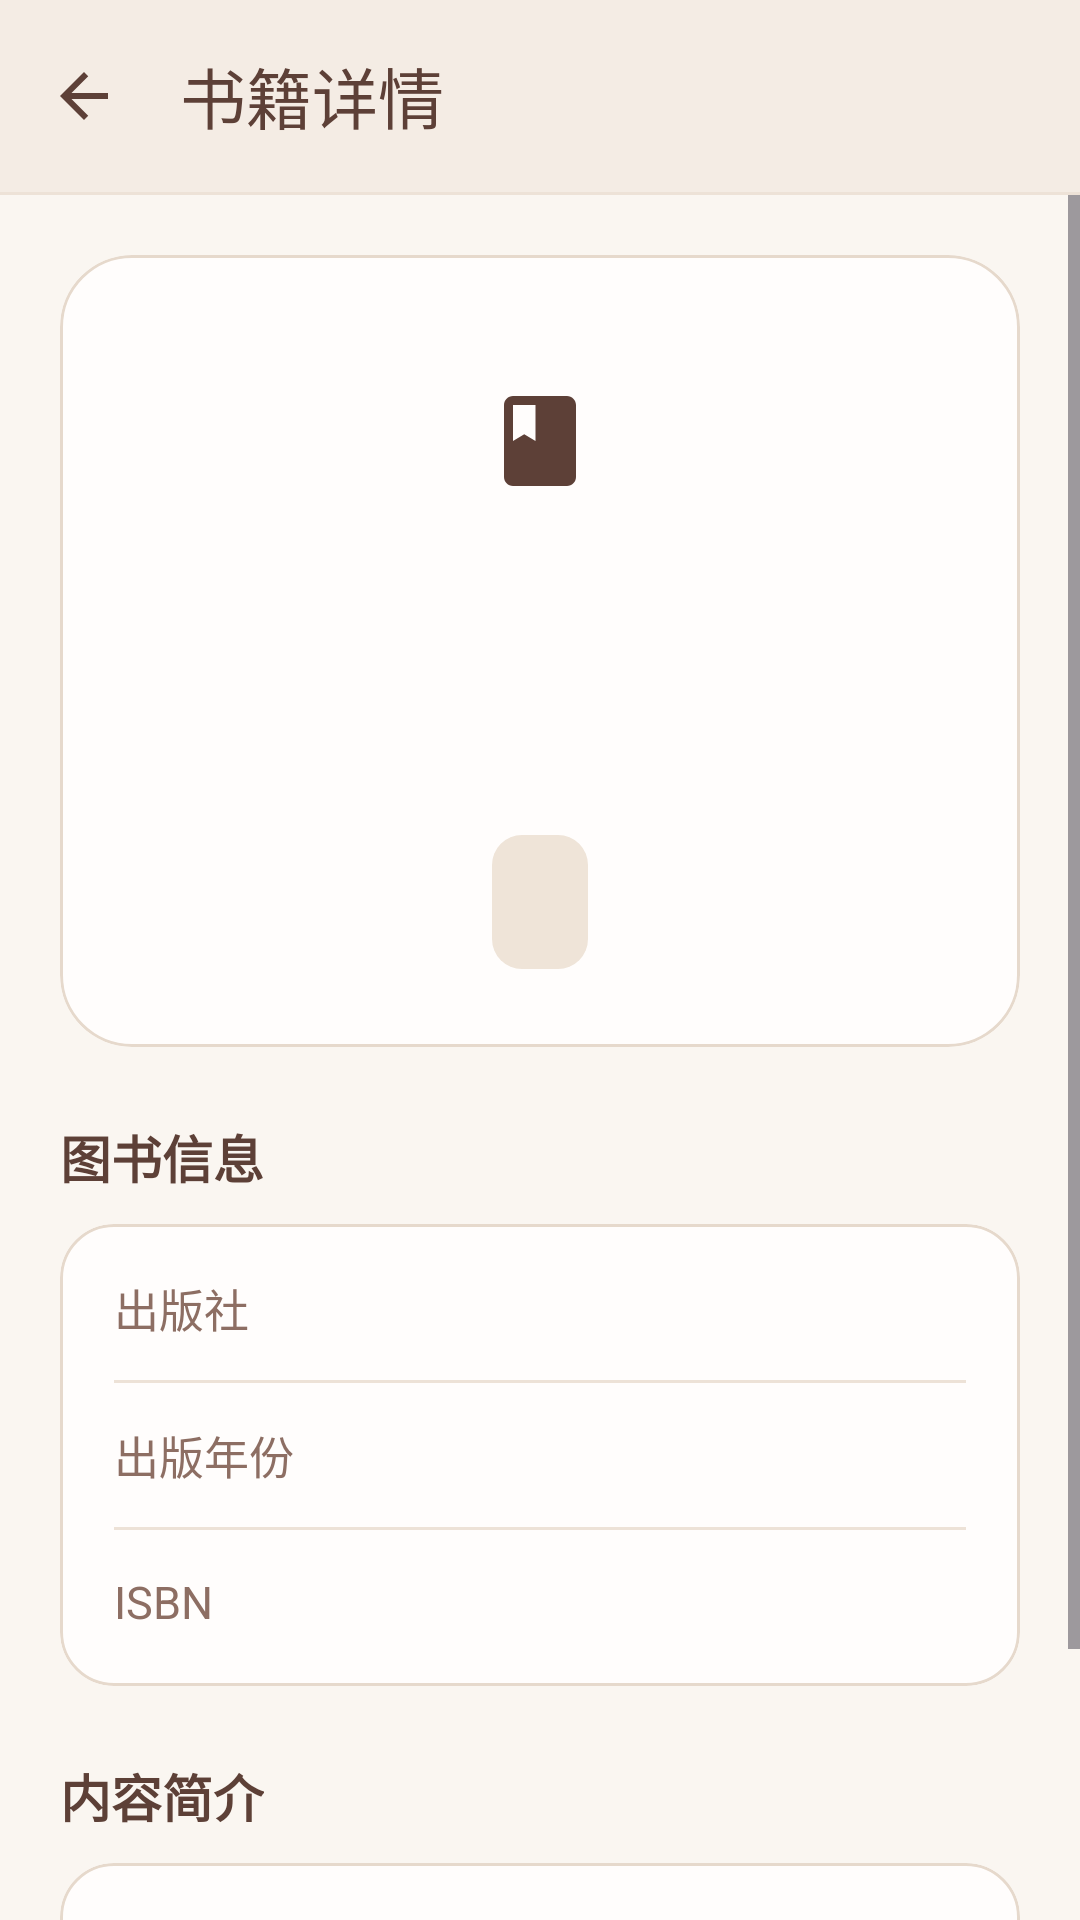

Where icons sit on this 1080w x 1920h app screen, as (x1, y1, x2, y2):
书籍图标: (504, 396, 576, 486)
